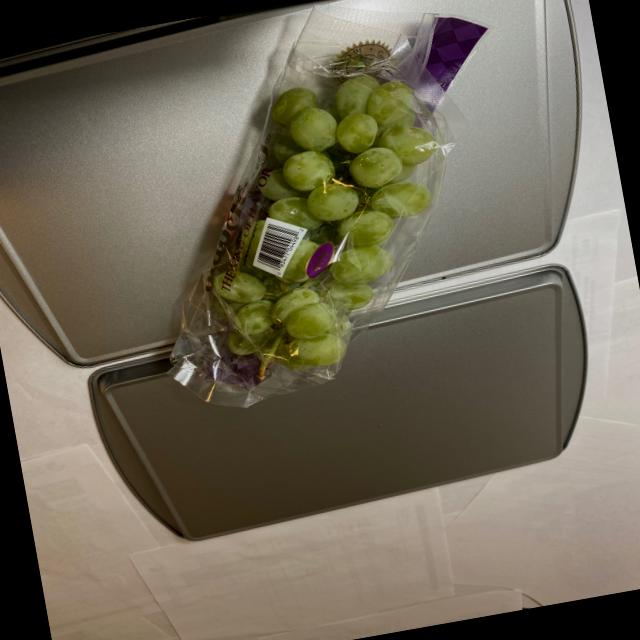grapes: (158, 47, 476, 393)
